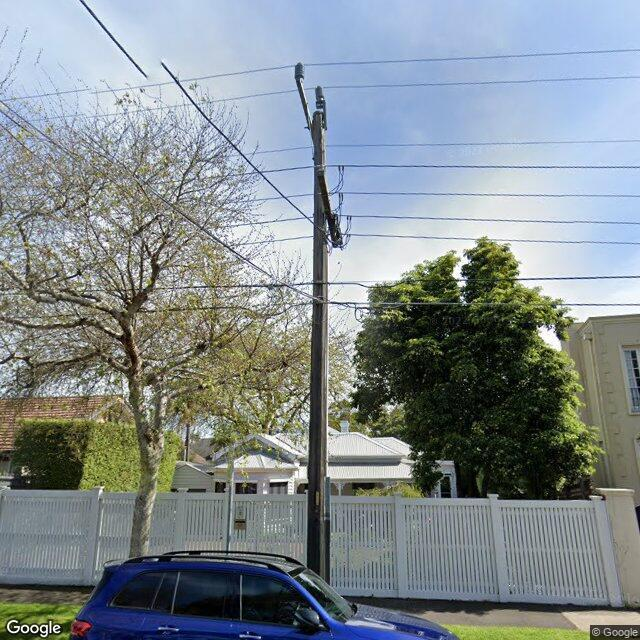HV-transmission: (294, 62, 327, 165)
crossarm: (318, 164, 352, 250), (296, 78, 313, 142)
timber-pole: (308, 109, 332, 585)
